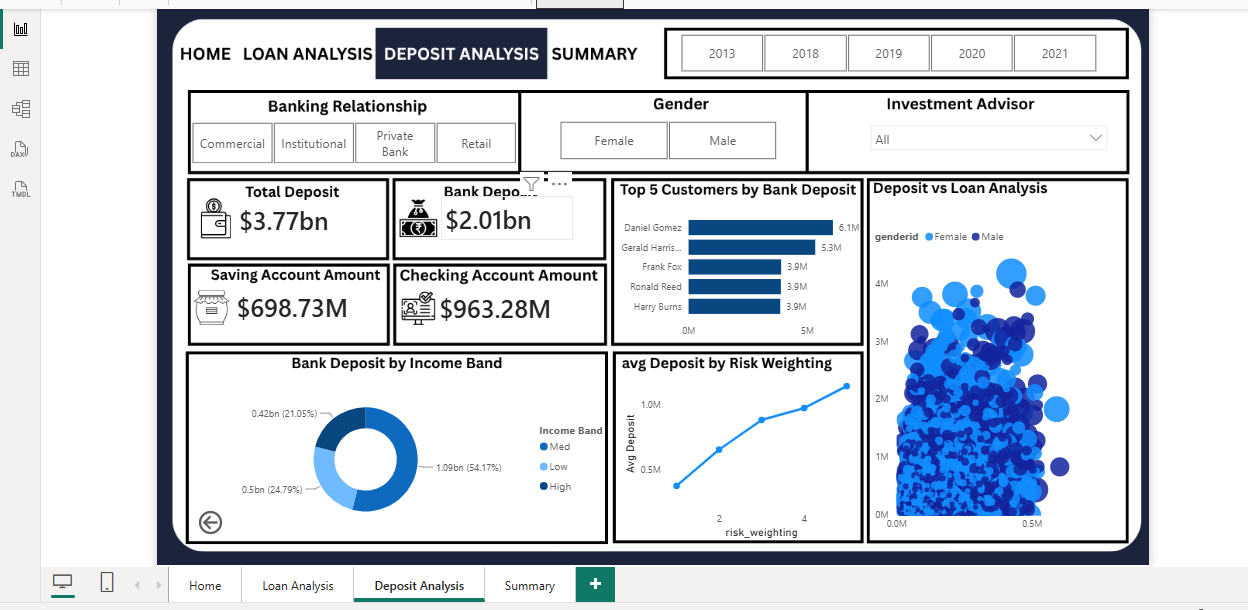

The page's visual inventory and layout, read from the dashboard file:
{"tool":"powerbi","page":{"name":"Deposit Analysis","canvas":[1280,720],"ordinal":2},"visuals":[{"type":"slicer","fields":{"Values":["public customers.joined_bank.Variation.Date Hierarchy.Year"]},"box":[652.9,28.6,582.9,57.1],"z":0},{"type":"actionButton","box":[24.3,37.1,74.3,40],"z":1000},{"type":"actionButton","box":[505.7,37.1,122.9,40],"z":2000},{"type":"cardVisual","fields":{"Data":["public customers.Total Deposits"]},"box":[100,248.3,188.3,50],"z":3000},{"type":"donutChart","fields":{"Category":["public customers.Income Band"],"Y":["Sum(public customers.bank_deposits)"]},"box":[40,490,558.3,181.7],"z":4000},{"type":"cardVisual","fields":{"Data":["Sum(public customers.saving_accounts)"]},"box":[73.3,353.3,206.7,81.7],"z":5000},{"type":"cardVisual","fields":{"Data":["Sum(public customers.checking_accounts)"]},"box":[346.7,365,208.3,58.3],"z":6000},{"type":"cardVisual","fields":{"Data":["Sum(public customers.bank_deposits)"]},"box":[366.7,241.7,170,56.7],"z":7000},{"type":"slicer","fields":{"Values":["public customers.brid"]},"box":[21.8,141.8,465.5,57.3],"z":8000},{"type":"slicer","fields":{"Values":["public customers.genderid"]},"box":[496.2,141.2,326.2,57.5],"z":9000},{"type":"slicer","fields":{"Values":["public customers.iaid"]},"box":[911.2,141.2,325,57.5],"z":10000},{"type":"actionButton","box":[110,37.1,170,40],"z":11000},{"type":"actionButton","box":[288.6,37.1,205.7,40],"z":12000},{"type":"scatterChart","fields":{"X":["Sum(public customers.estimated_income)"],"Y":["Sum(public customers.bank_deposits)"],"Size":["Sum(public customers.bank_loans)"],"Category":["public customers.client_id"],"Series":["public customers.genderid"]},"box":[921.3,273.5,331.7,409.6],"z":13000},{"type":"clusteredBarChart","fields":{"Category":["public customers.name"],"Y":["Sum(public customers.bank_deposits)"]},"box":[581.4,248.6,362.9,184.3],"z":14000},{"type":"lineChart","fields":{"Y":["public customers.Avg Deposit"],"Category":["public customers.risk_weighting"]},"box":[597.5,462.5,307.5,226.7],"z":15000},{"type":"actionButton","box":[48.6,642.9,100,40],"z":16000}]}

Visuals, with their boxes on the page's 1280x720 design canvas (x1, y1, x2, y2). These are canvas units, not pixel positions in the 1248x610 screenshot, which may show the page scaled, cropped or inside an application window:
slicer - public customers.joined_bank.Variation.Date Hierarchy.Year: 653, 29, 1236, 86
actionButton: 24, 37, 99, 77
actionButton: 506, 37, 629, 77
cardVisual - public customers.Total Deposits: 100, 248, 288, 298
donutChart - public customers.Income Band x Sum(public customers.bank_deposits): 40, 490, 598, 672
cardVisual - Sum(public customers.saving_accounts): 73, 353, 280, 435
cardVisual - Sum(public customers.checking_accounts): 347, 365, 555, 423
cardVisual - Sum(public customers.bank_deposits): 367, 242, 537, 298
slicer - public customers.brid: 22, 142, 487, 199
slicer - public customers.genderid: 496, 141, 822, 199
slicer - public customers.iaid: 911, 141, 1236, 199
actionButton: 110, 37, 280, 77
actionButton: 289, 37, 494, 77
scatterChart - Sum(public customers.estimated_income) x Sum(public customers.bank_deposits): 921, 274, 1253, 683
clusteredBarChart - public customers.name x Sum(public customers.bank_deposits): 581, 249, 944, 433
lineChart - public customers.Avg Deposit x public customers.risk_weighting: 598, 462, 905, 689
actionButton: 49, 643, 149, 683
